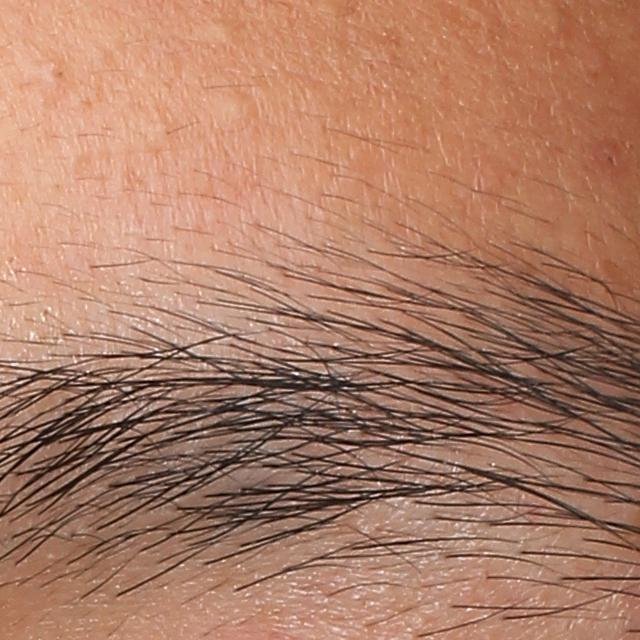comedo: (209, 88, 263, 131), (204, 19, 239, 45), (37, 58, 60, 88)
